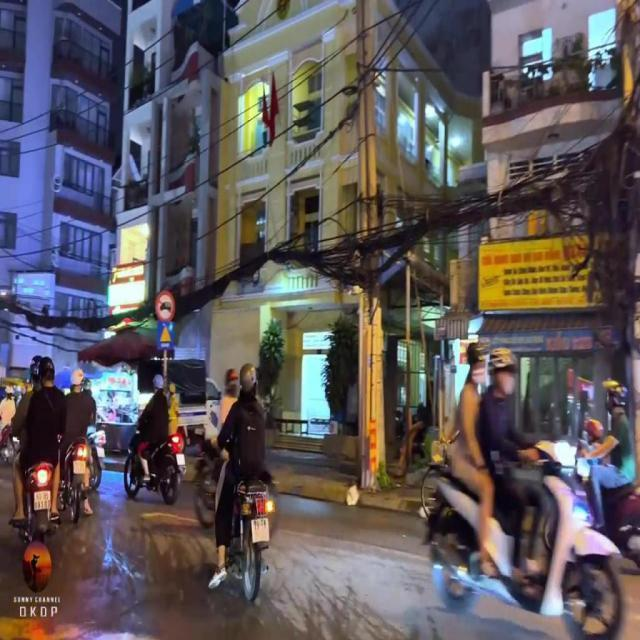106-cam-oto-tai: (155, 290, 177, 322)
442-cho: (157, 322, 176, 352)
